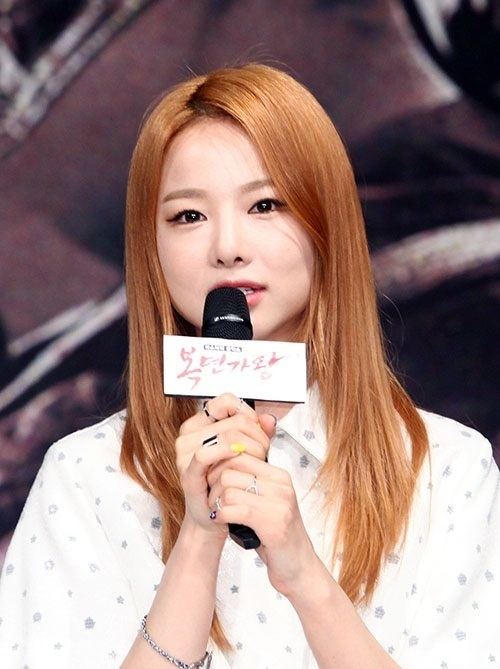face: (155, 115, 311, 350)
